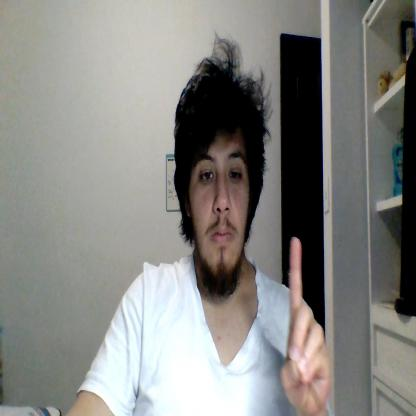D: (281, 238, 330, 410)
